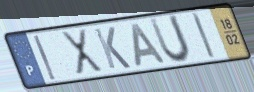A: (130, 22, 168, 69)
I: (190, 11, 218, 62), (31, 33, 58, 82)
K: (92, 25, 134, 71)
U: (147, 13, 194, 65)
X: (59, 27, 106, 77)
